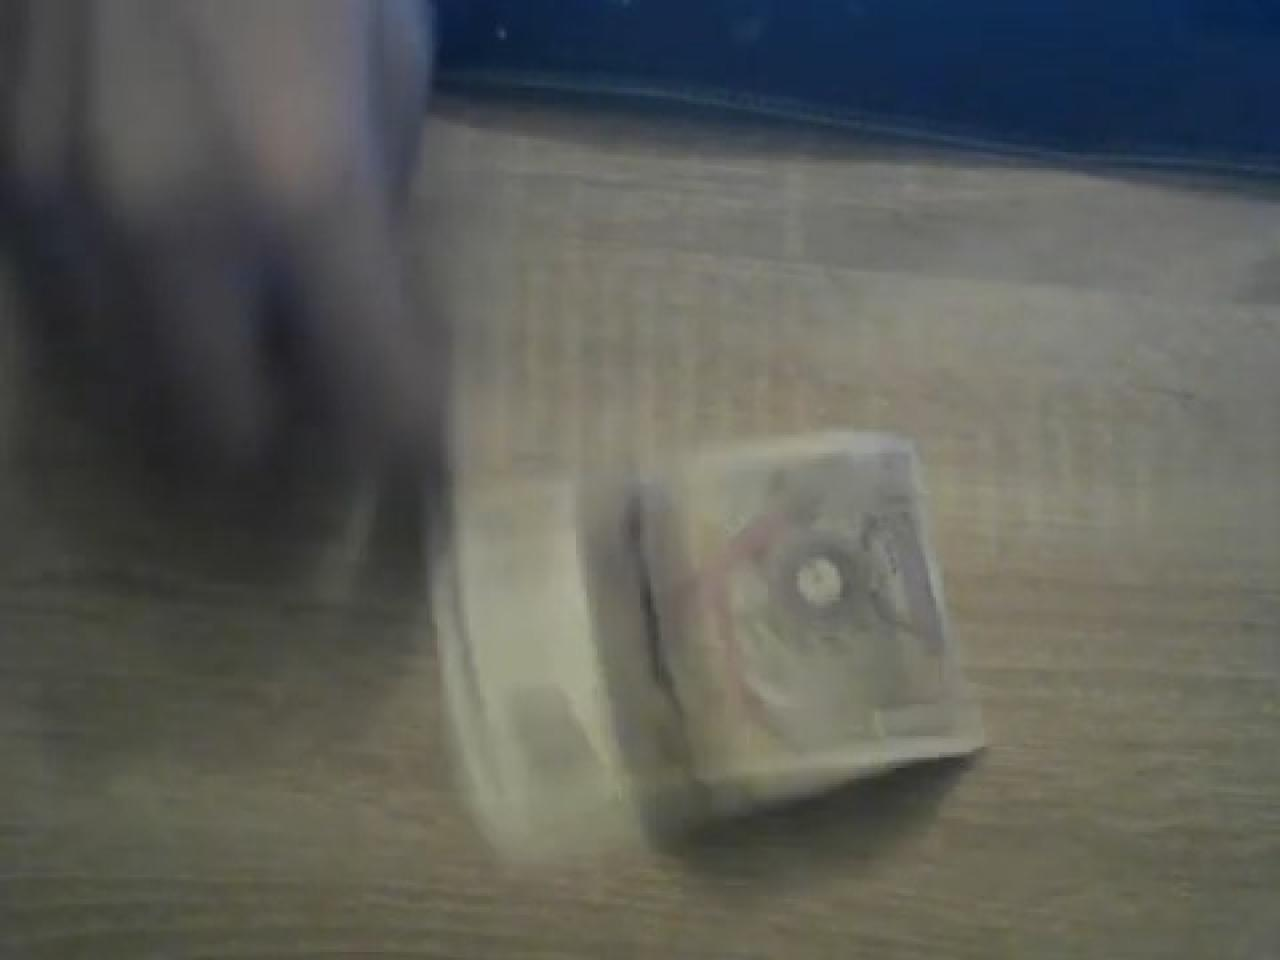10leva: (437, 427, 987, 872)
